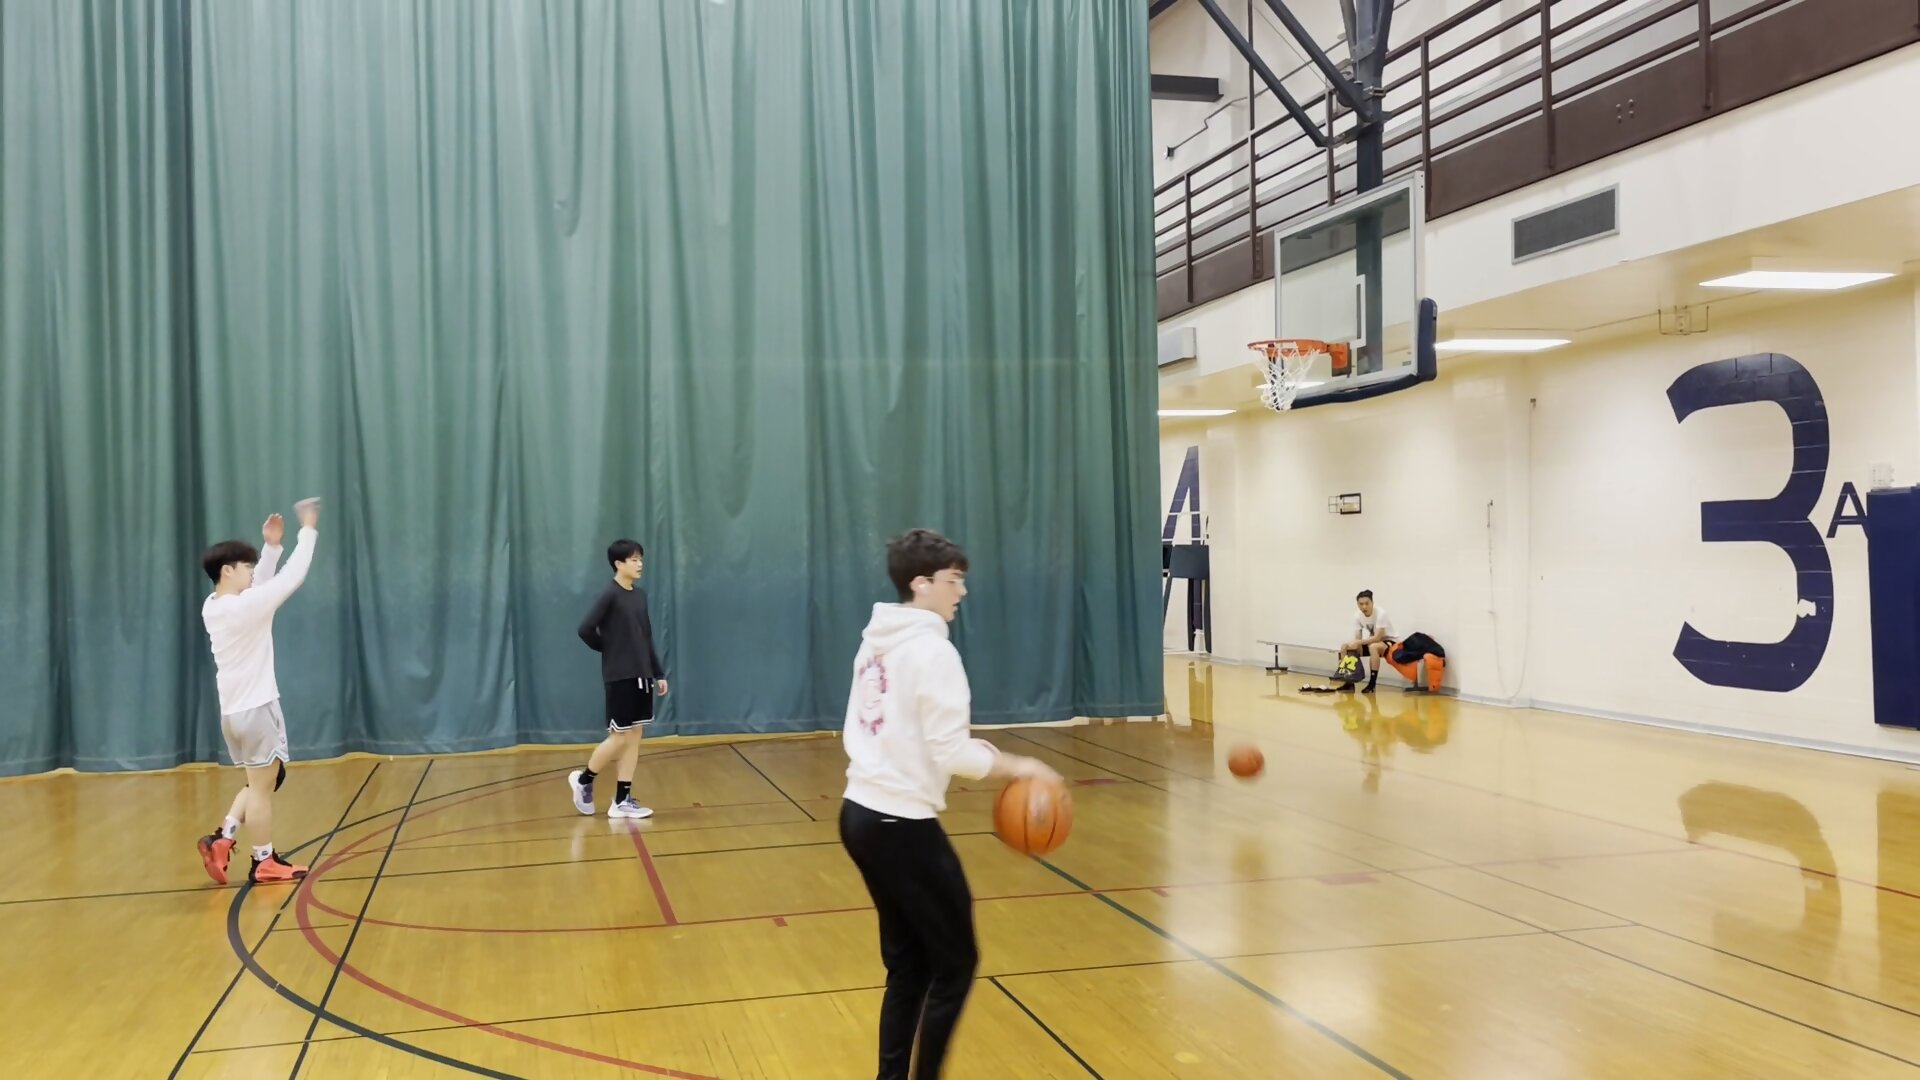ball: (989, 770, 1077, 860), (1224, 741, 1272, 783)
net: (1251, 381, 1308, 415)
player: (838, 531, 1024, 1080), (177, 493, 343, 897), (563, 535, 682, 827), (1341, 583, 1400, 701)
rim: (1244, 335, 1331, 362)
